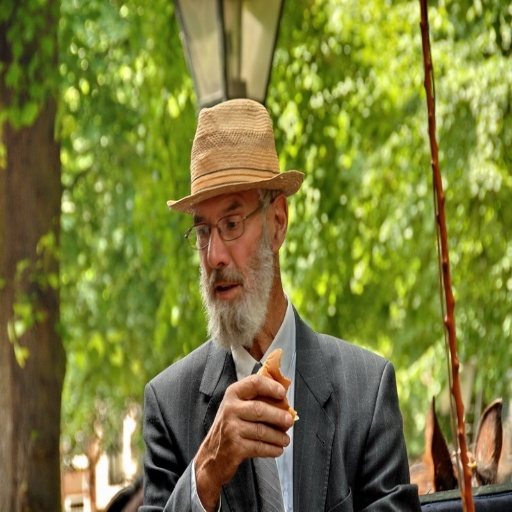hand: (199, 368, 293, 490)
